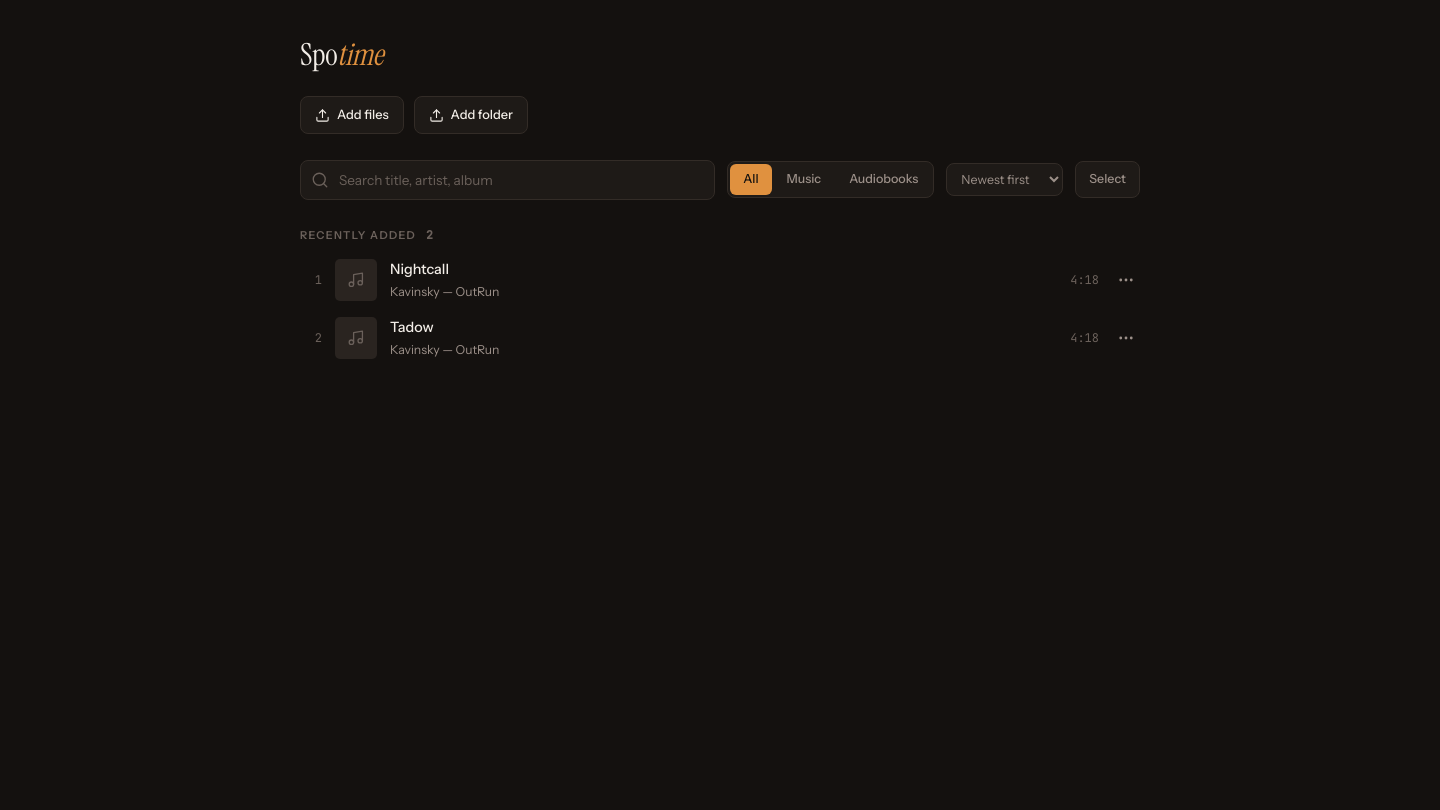
row menu › stops playback when the playing track is deleted
Expected: the text "Tadow" is shown, [390,318,434,336]
Click the button named "Play Tadow": point(720, 338) [290,309,1150,367]
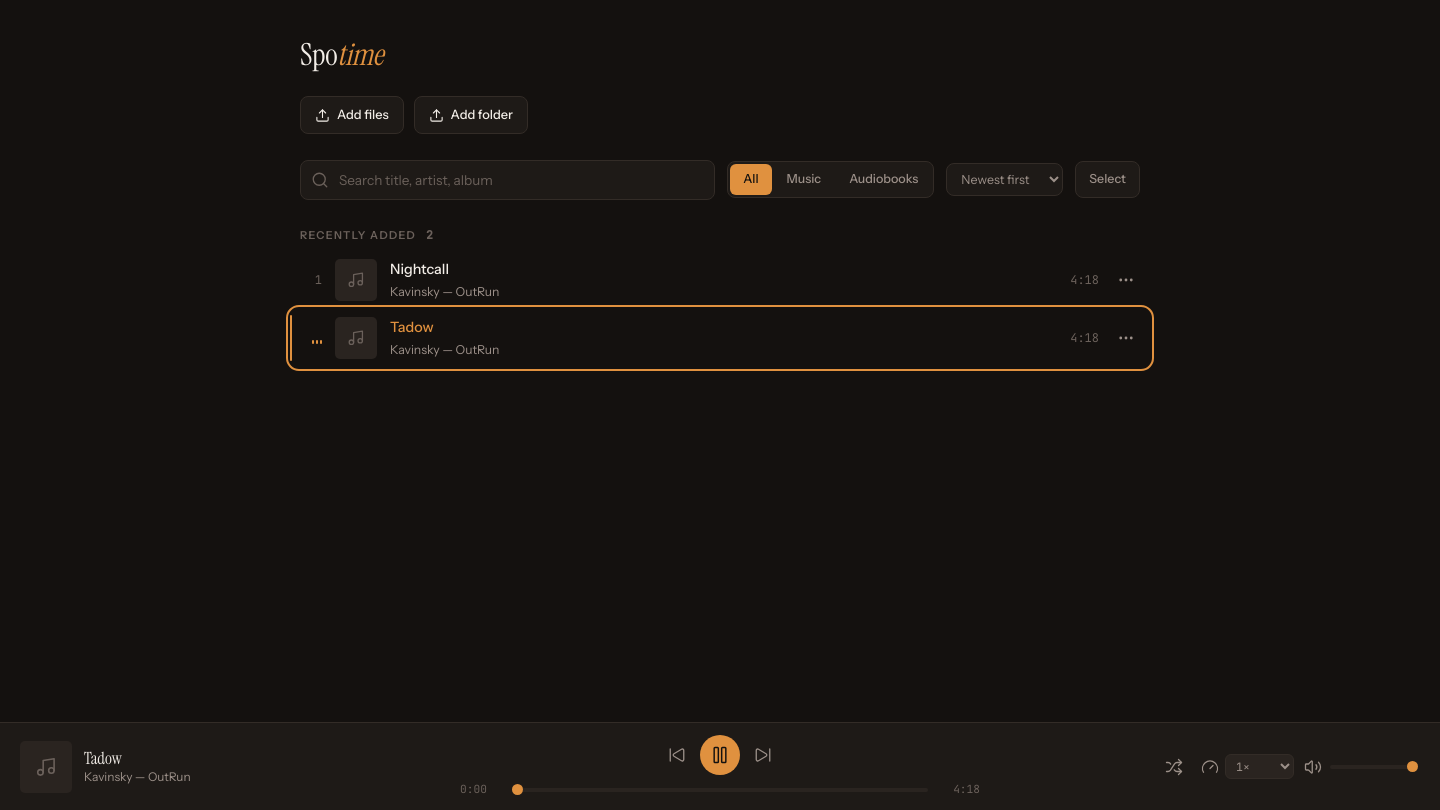
Result: the footer named "Player" is shown at [0,722,1439,809]
Click the button named "More for Tadow": point(1126, 338) [1112,324,1140,352]
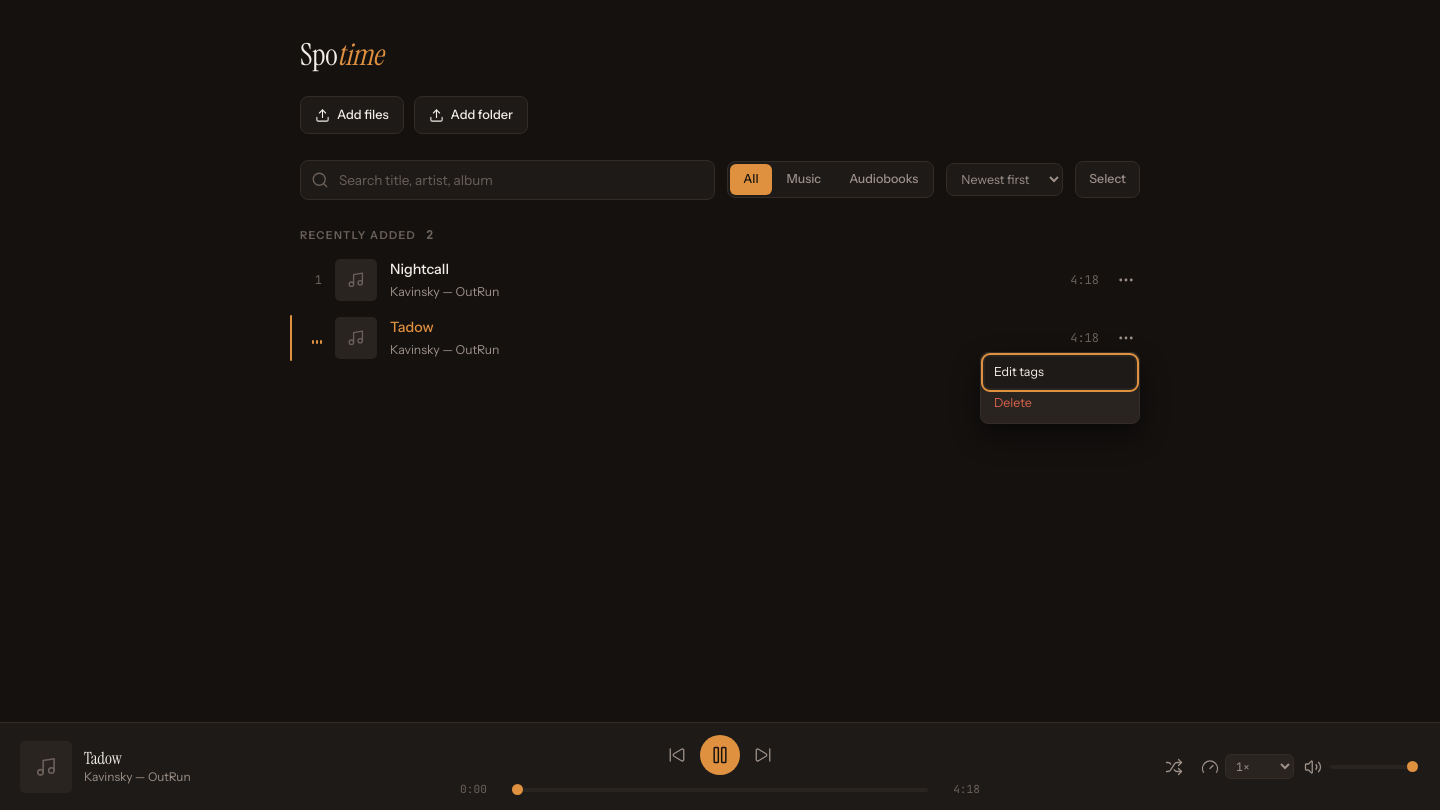
Click the menu item "Delete": point(1060, 403) [985,388,1135,419]
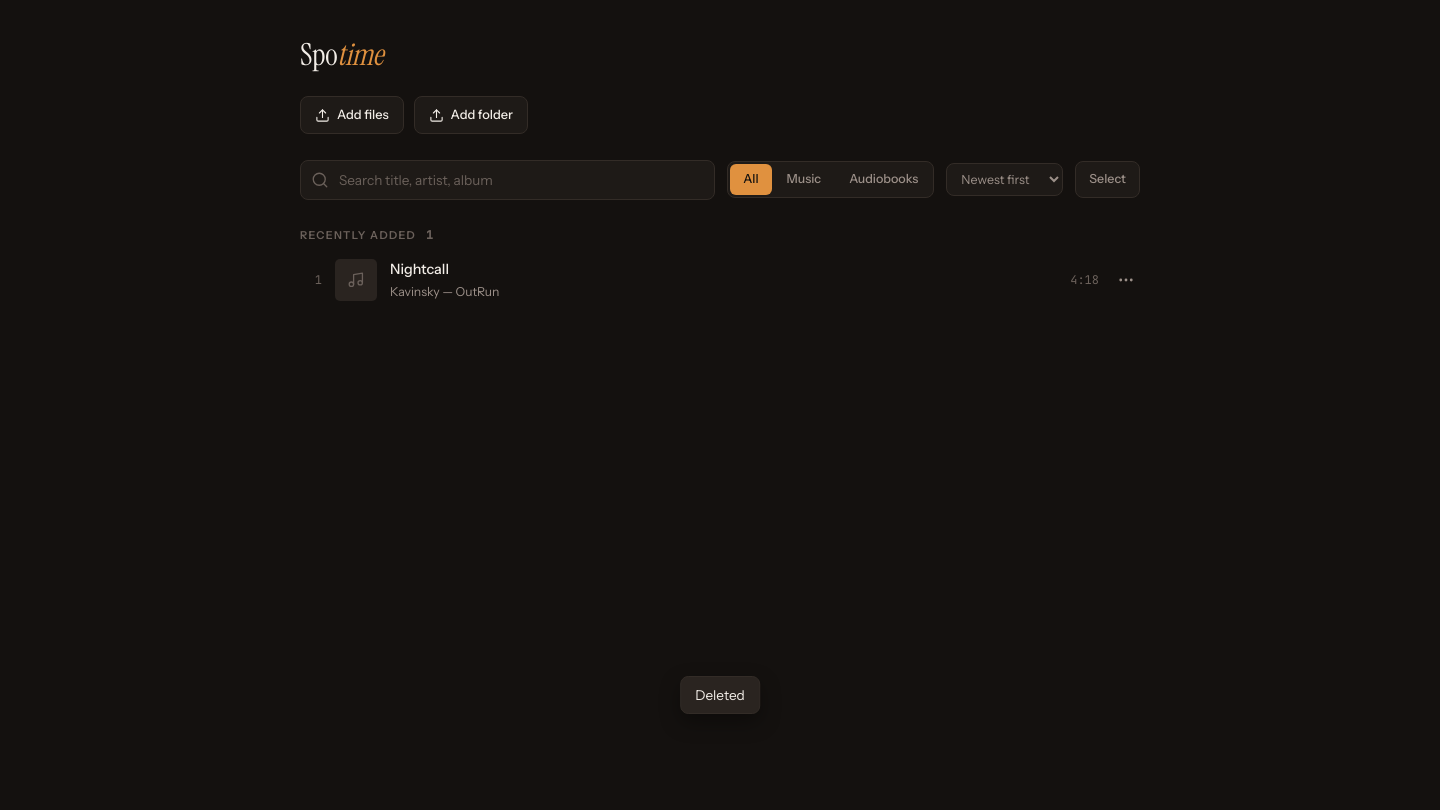
Result: the footer "Player" is gone
